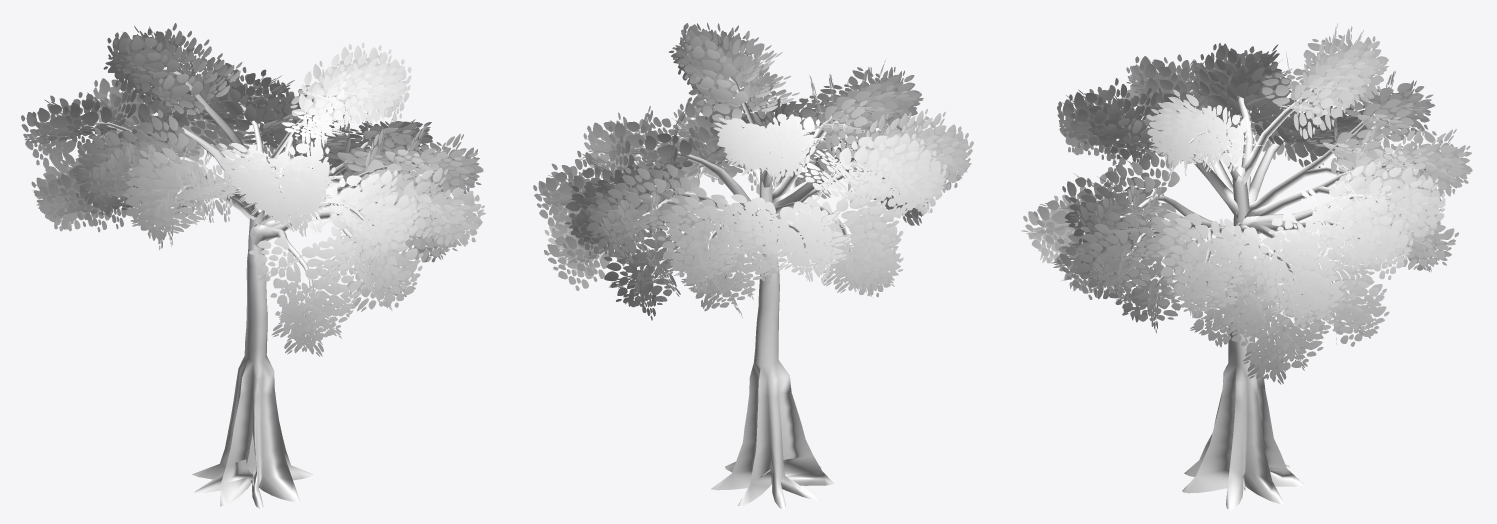
The model's file is tree_kapok_01.obj.
The picture shows the model from 3 angles, left to right: view 1: azimuth 30°, elevation 25°; view 2: azimuth 150°, elevation 25°; view 3: azimuth 270°, elevation 25°; orthographic projection. The views are drawn at different scales.
Visible parts, largest first — view 1: generic_deciduous_leaf, object 1; view 2: generic_deciduous_leaf, object 1; view 3: generic_deciduous_leaf, object 1.
Boxes of the visible parts, x1,y1,x2,y2 form: generic_deciduous_leaf: (21, 23, 485, 356); object 1: (78, 67, 435, 509); generic_deciduous_leaf: (533, 22, 973, 320); object 1: (592, 77, 898, 509); generic_deciduous_leaf: (1021, 23, 1472, 384); object 1: (1070, 79, 1426, 509).
Bounding box in the file's own units: 50.34 × 52.75 × 52.28.
Materials: 2 (1 with a texture image).
